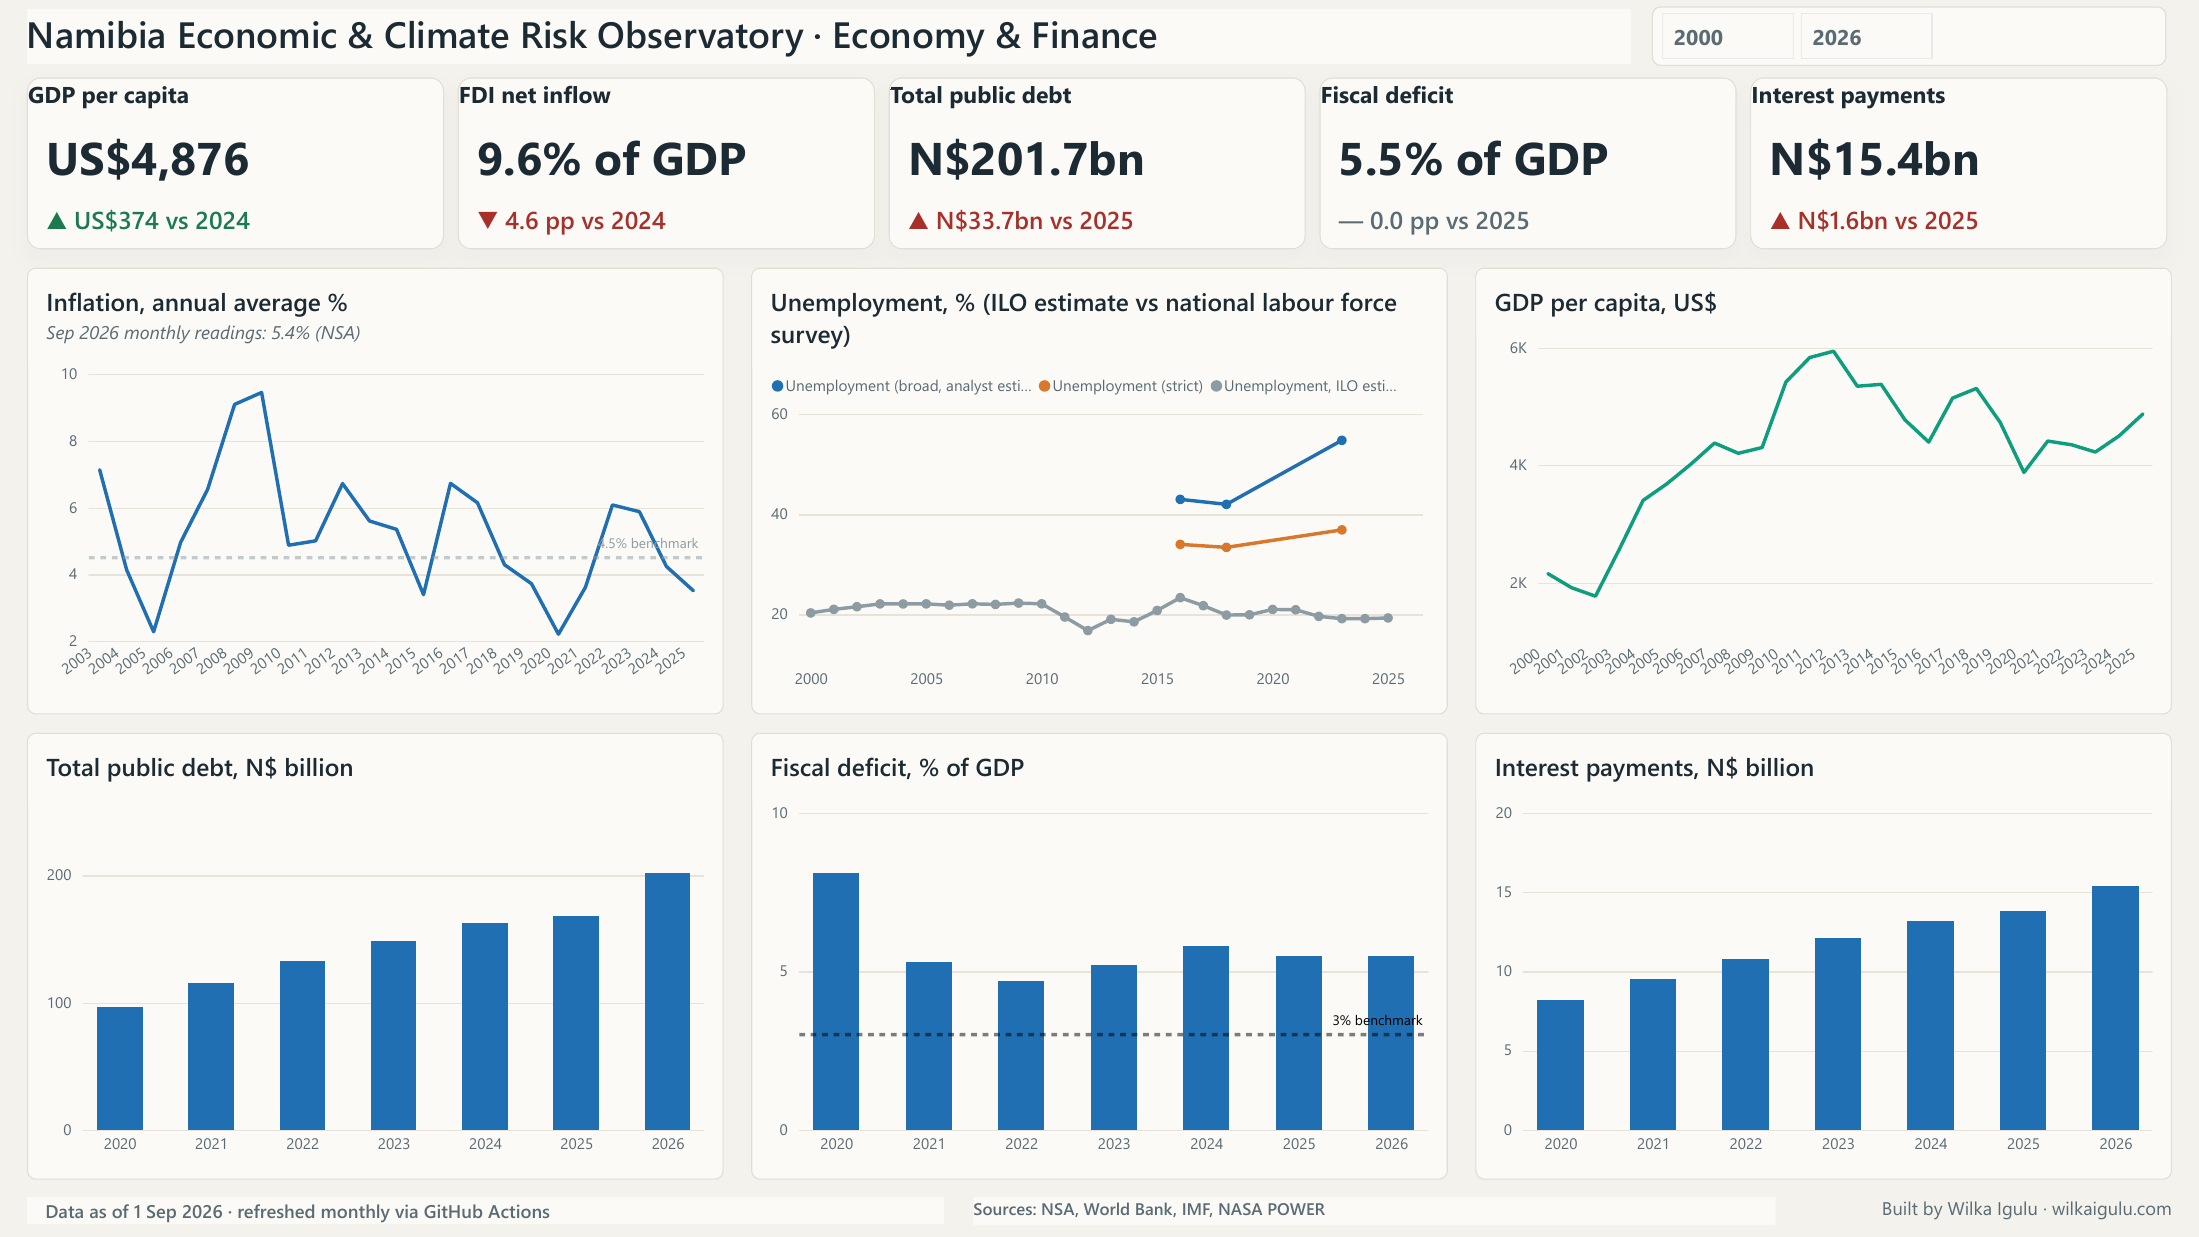

Layout of this report page (visuals, bound fields, positions):
{"tool":"powerbi","page":{"name":"Economy & Finance","canvas":[1920,1080],"ordinal":1},"visuals":[{"type":"cardVisual","title":"GDP per capita","fields":{"Data":["Measure Table.Latest Value Formatted"]},"box":[24,68,364,150],"z":0},{"type":"cardVisual","title":"FDI net inflow","fields":{"Data":["Measure Table.Latest Value Formatted"]},"box":[400,68,364,150],"z":1000},{"type":"cardVisual","title":"Total public debt","fields":{"Data":["Measure Table.Latest Value Formatted"]},"box":[776,68,364,150],"z":2000},{"type":"cardVisual","title":"Fiscal deficit","fields":{"Data":["Measure Table.Latest Value Formatted"]},"box":[1152,68,364,150],"z":3000},{"type":"textbox","title":"Namibia Economic & Climate Risk Observatory · Economy & Finance","box":[24,8,1400,48],"z":4000},{"type":"cardVisual","fields":{"Data":["Measure Table.Data As Of"]},"box":[24,1045,800,24],"z":5000},{"type":"textbox","title":"Built by Wilka Igulu · wilkaigulu.com","box":[1200,1044,696,36],"z":6000},{"type":"textbox","title":"Sources: NSA, World Bank, IMF, NASA POWER ","box":[850,1045,700,24],"z":7000},{"type":"slicer","fields":{"Values":["dim_date.year"]},"box":[1442,6,449,52],"z":8000},{"type":"cardVisual","title":"Interest payments","fields":{"Data":["Measure Table.Latest Value Formatted"]},"box":[1528,68,364,150],"z":9000},{"type":"lineChart","title":"Inflation, annual average %","fields":{"Category":["dim_date.year"],"Y":["Measure Table.Value Actual"]},"box":[24,234,608,390],"z":10000},{"type":"lineChart","title":"Unemployment, % (ILO estimate vs national labour force survey)","fields":{"Category":["dim_date.year"],"Series":["dim_indicator.label"],"Y":["Measure Table.Value Actual"]},"box":[656,234,608,390],"z":11000},{"type":"lineChart","title":"GDP per capita, US$","fields":{"Category":["dim_date.year"],"Y":["Measure Table.Value Actual"]},"box":[1288,234,608,390],"z":12000},{"type":"columnChart","title":"Total public debt, N$ billion","fields":{"Category":["dim_date.year"],"Y":["Measure Table.Value Actual","Measure Table.Value Projected"]},"box":[24,640,608,390],"z":13000},{"type":"columnChart","title":"Fiscal deficit, % of GDP","fields":{"Category":["dim_date.year"],"Y":["Measure Table.Value Actual","Measure Table.Value Projected"]},"box":[656,640,608,390],"z":14000},{"type":"columnChart","title":"Interest payments, N$ billion","fields":{"Category":["dim_date.year"],"Y":["Measure Table.Value Actual","Measure Table.Value Projected"]},"box":[1288,640,608,390],"z":15000}]}

Visuals, with their boxes in screenshot pixels (x1, y1, x2, y2), scaled from the page's 1920x1080 canvas onto the 2199x1237 screenshot:
"GDP per capita" cardVisual: {"x1": 27, "y1": 78, "x2": 444, "y2": 250}
"FDI net inflow" cardVisual: {"x1": 458, "y1": 78, "x2": 875, "y2": 250}
"Total public debt" cardVisual: {"x1": 889, "y1": 78, "x2": 1306, "y2": 250}
"Fiscal deficit" cardVisual: {"x1": 1319, "y1": 78, "x2": 1736, "y2": 250}
"Namibia Economic & Climate Risk Observatory · Economy & Finance" textbox: {"x1": 27, "y1": 9, "x2": 1631, "y2": 64}
cardVisual - Measure Table.Data As Of: {"x1": 27, "y1": 1197, "x2": 944, "y2": 1224}
"Built by Wilka Igulu · wilkaigulu.com" textbox: {"x1": 1374, "y1": 1196, "x2": 2172, "y2": 1236}
"Sources: NSA, World Bank, IMF, NASA POWER " textbox: {"x1": 974, "y1": 1197, "x2": 1775, "y2": 1224}
slicer - dim_date.year: {"x1": 1652, "y1": 7, "x2": 2166, "y2": 66}
"Interest payments" cardVisual: {"x1": 1750, "y1": 78, "x2": 2167, "y2": 250}
"Inflation, annual average %" lineChart: {"x1": 27, "y1": 268, "x2": 724, "y2": 715}
"Unemployment, % (ILO estimate vs national labour force survey)" lineChart: {"x1": 751, "y1": 268, "x2": 1448, "y2": 715}
"GDP per capita, US$" lineChart: {"x1": 1475, "y1": 268, "x2": 2172, "y2": 715}
"Total public debt, N$ billion" columnChart: {"x1": 27, "y1": 733, "x2": 724, "y2": 1180}
"Fiscal deficit, % of GDP" columnChart: {"x1": 751, "y1": 733, "x2": 1448, "y2": 1180}
"Interest payments, N$ billion" columnChart: {"x1": 1475, "y1": 733, "x2": 2172, "y2": 1180}
